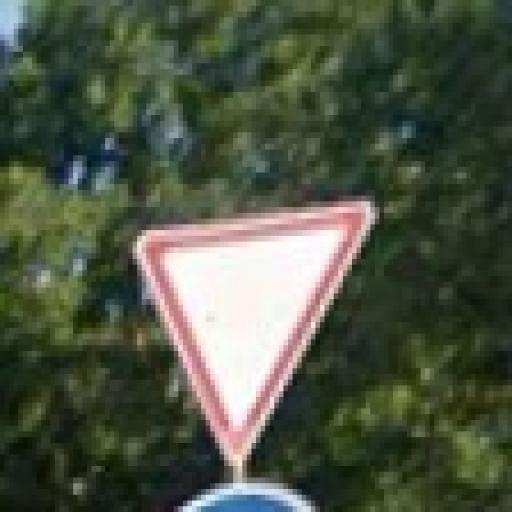traffic_sign: (133, 202, 376, 473)
